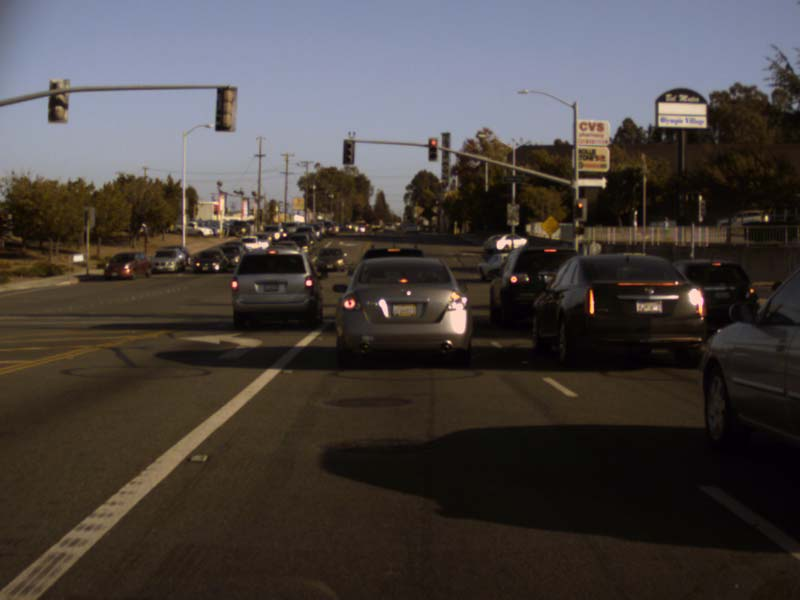Red: (428, 138, 437, 162), (576, 203, 581, 217)
